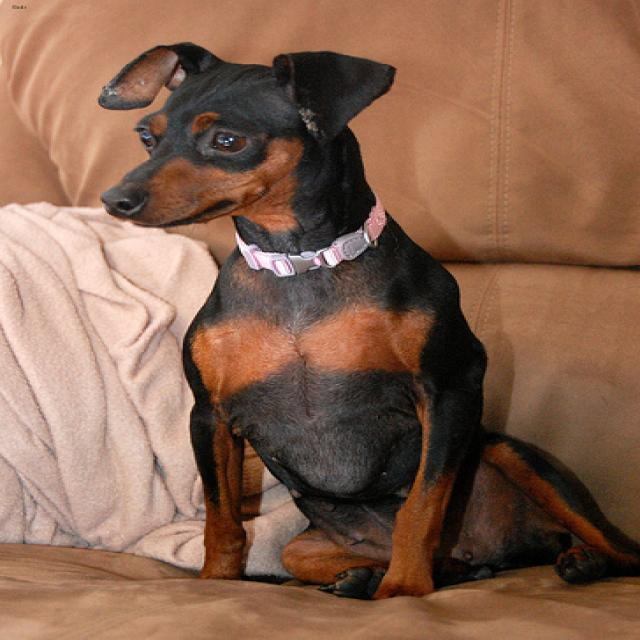dog-miniature_pinscher: (81, 36, 636, 613)
